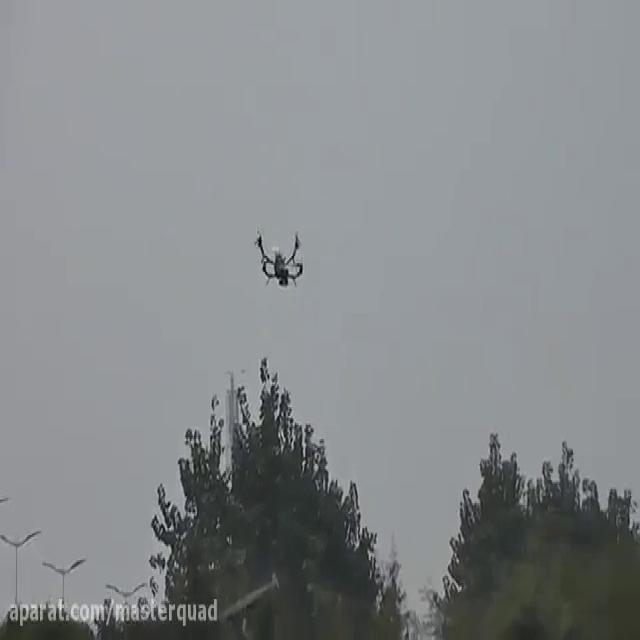drone: (252, 224, 305, 290)
